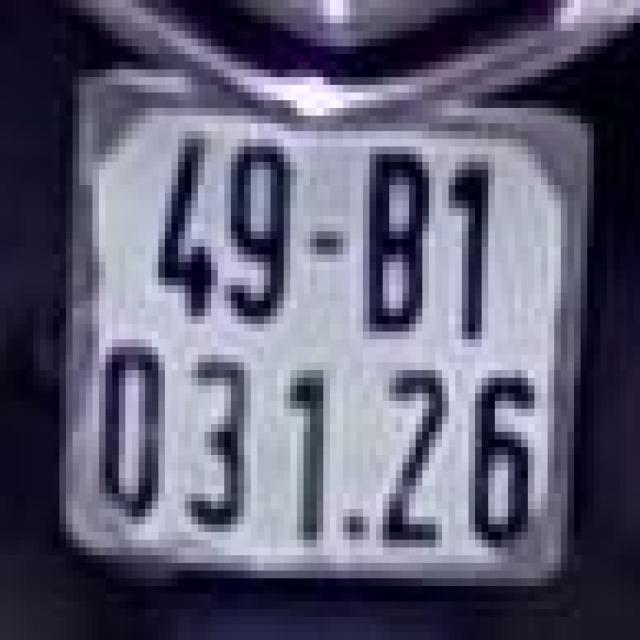0: (89, 332, 168, 532)
1: (264, 347, 330, 555), (446, 135, 498, 343)
2: (373, 374, 452, 559)
3: (184, 324, 250, 540)
4: (145, 123, 218, 340)
6: (472, 362, 551, 556)
9: (228, 142, 300, 328)
B: (350, 131, 436, 347)
